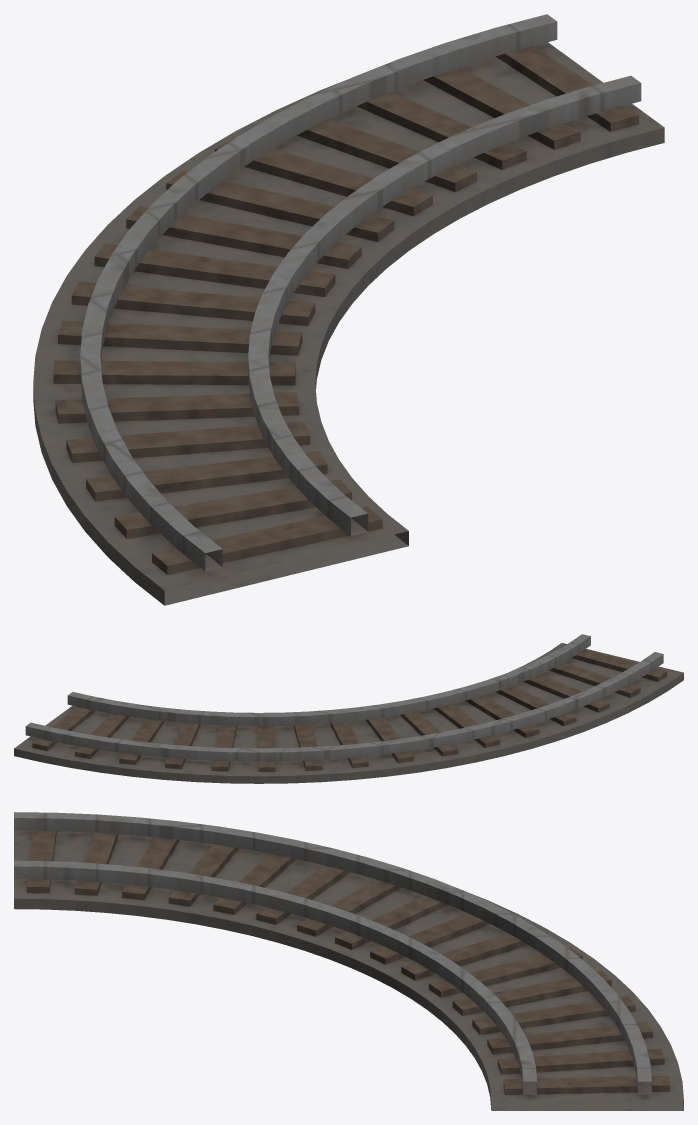
File: trilho_curva.glb
3 renders of one model, top to bottom at view 1: azimuth 30°, elevation 25°; view 2: azimuth 150°, elevation 25°; view 3: azimuth 270°, elevation 25°, orthographic. The views are drawn at different scales.
Visible parts, largest first — view 1: trilho_curva; view 2: trilho_curva; view 3: trilho_curva.
Part boxes in pixels (x1,y1,x2,y2): trilho_curva: [33, 14, 664, 605]; trilho_curva: [14, 634, 683, 783]; trilho_curva: [14, 812, 683, 1110].
Size of the model in its own units: 2.92 by 0.14 by 2.92.
Materials: 1 (1 with a texture image).
